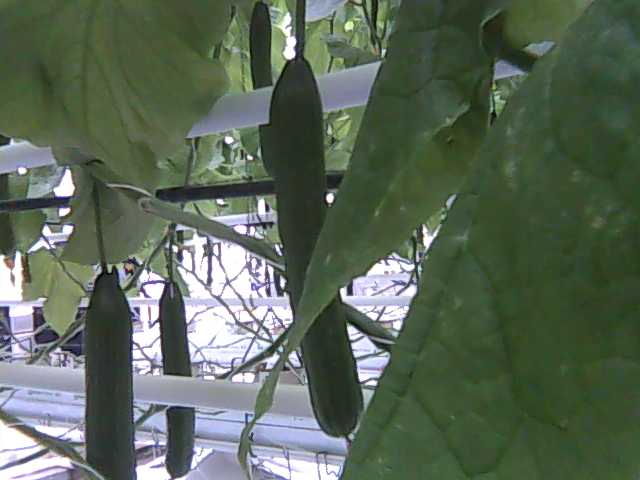concombre: (266, 48, 367, 441), (82, 271, 143, 480)
